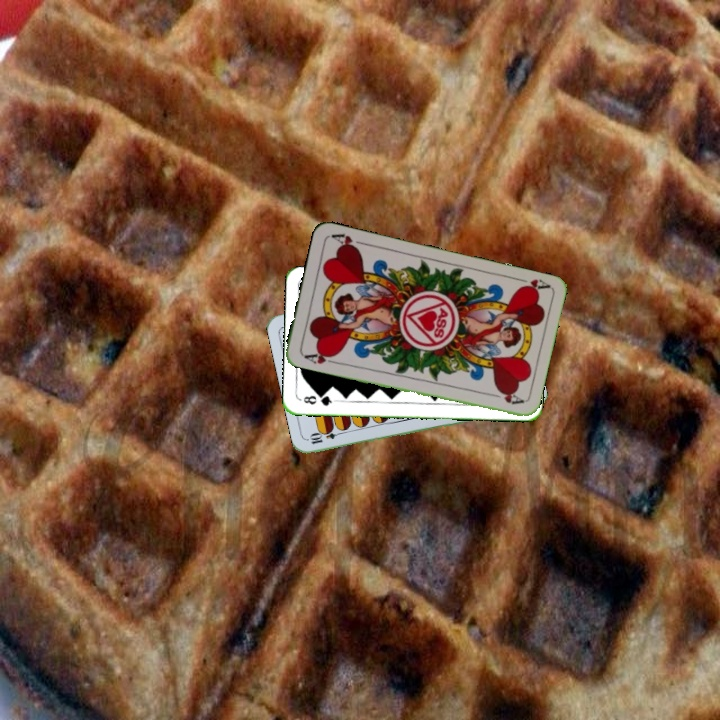E10: (306, 426, 346, 447)
G8: (299, 391, 338, 409)
HA: (511, 273, 552, 295), (300, 347, 340, 367)
